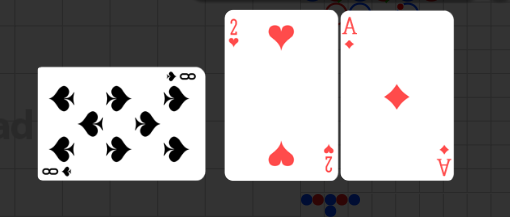2H: (322, 142, 335, 174)
8S: (41, 166, 74, 178)
AD: (435, 142, 451, 177)
